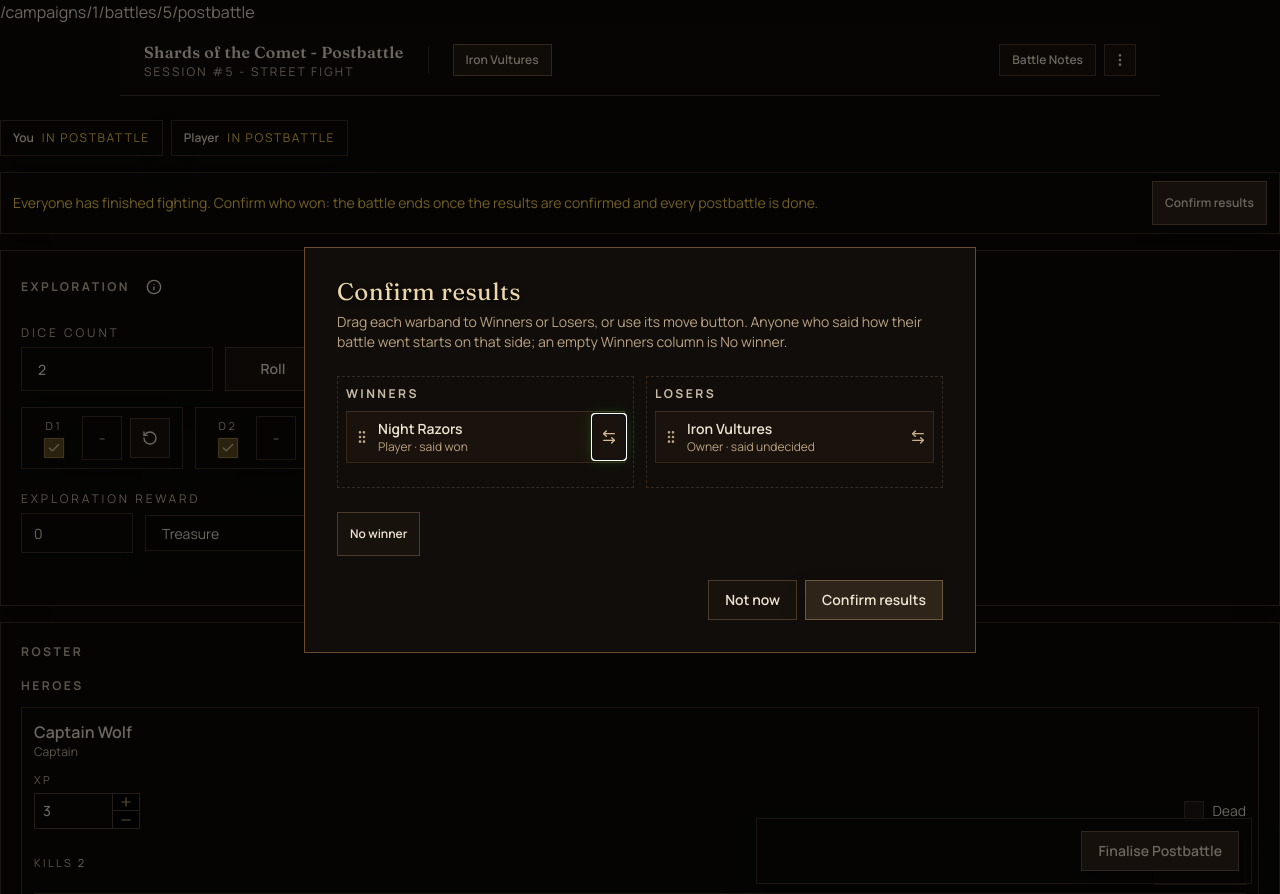
Test: BattlePostbattle requests › asks the last player to finish to confirm the results, then sends them (decision 4)
Check: the text "Captain Wolf" is shown, box x1=34 y1=720 x2=132 y2=744
Click the button named "Move Iron Vultures to Winners" at coordinates (918, 437), box x1=902 y1=415 x2=934 y2=459
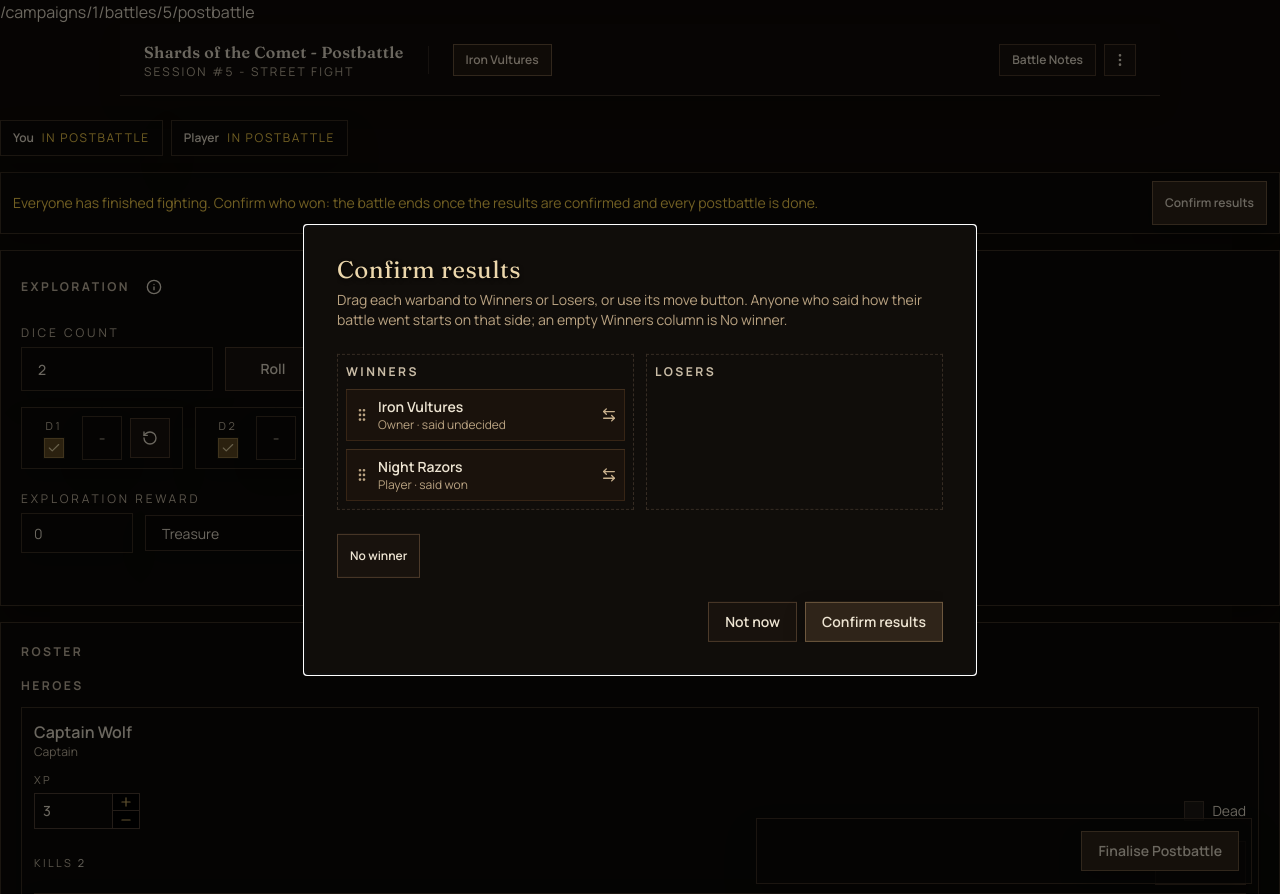
Click the button named "Move Night Razors to Losers" at coordinates (609, 475), box x1=593 y1=453 x2=625 y2=497
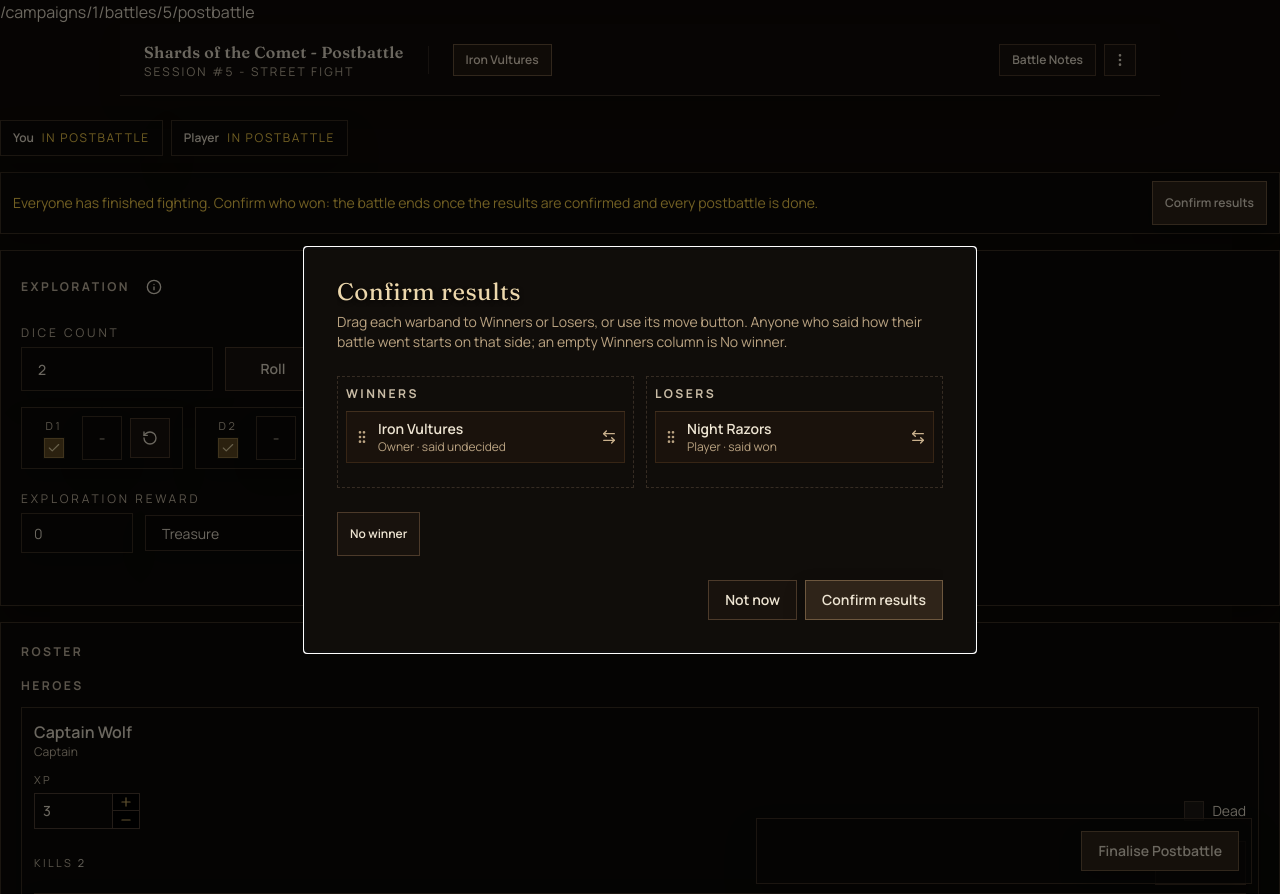
Click the button "Confirm results" at coordinates (874, 600), box x1=805 y1=580 x2=943 y2=620
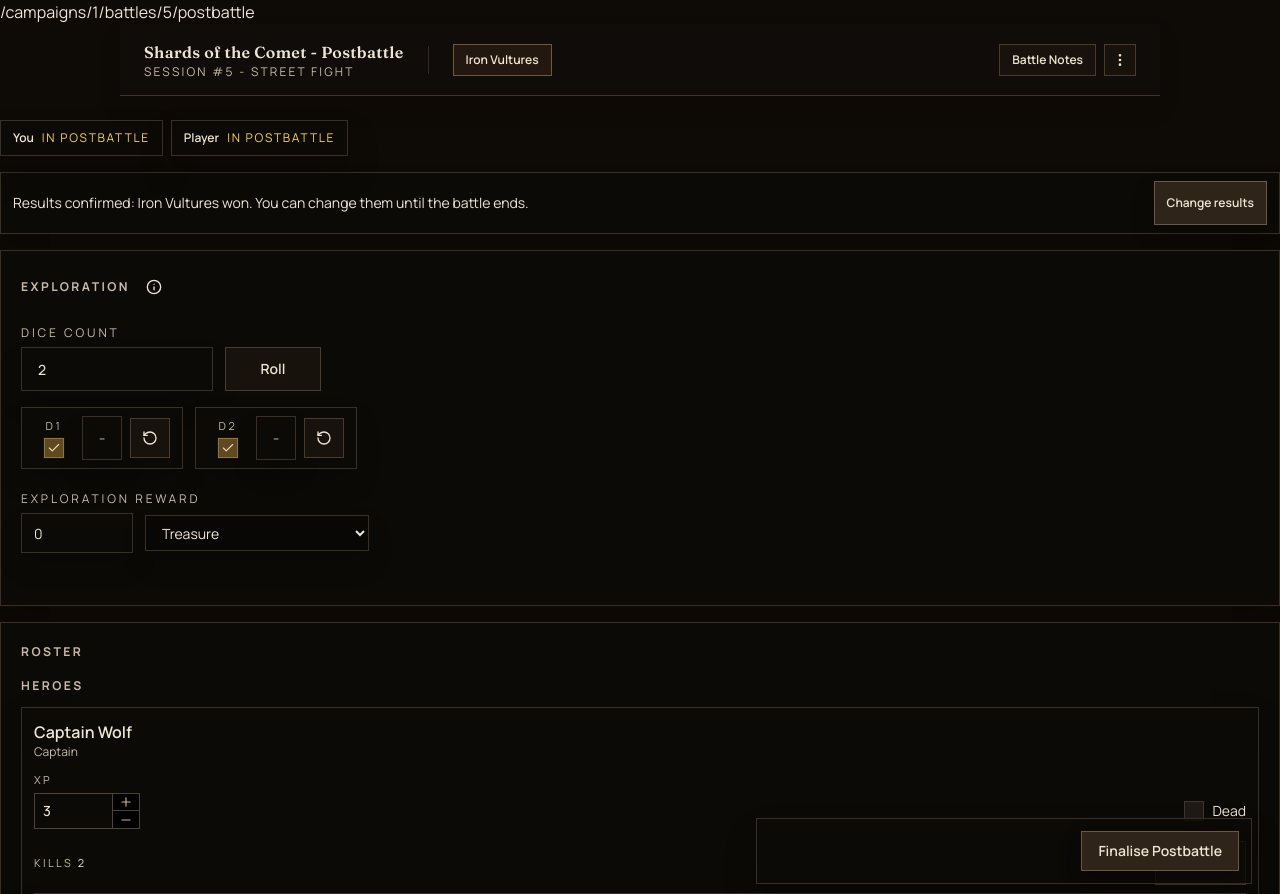
Check: the text "Results confirmed: Iron Vultures won. You can change them until the battle ends." is shown, box x1=13 y1=193 x2=529 y2=213
